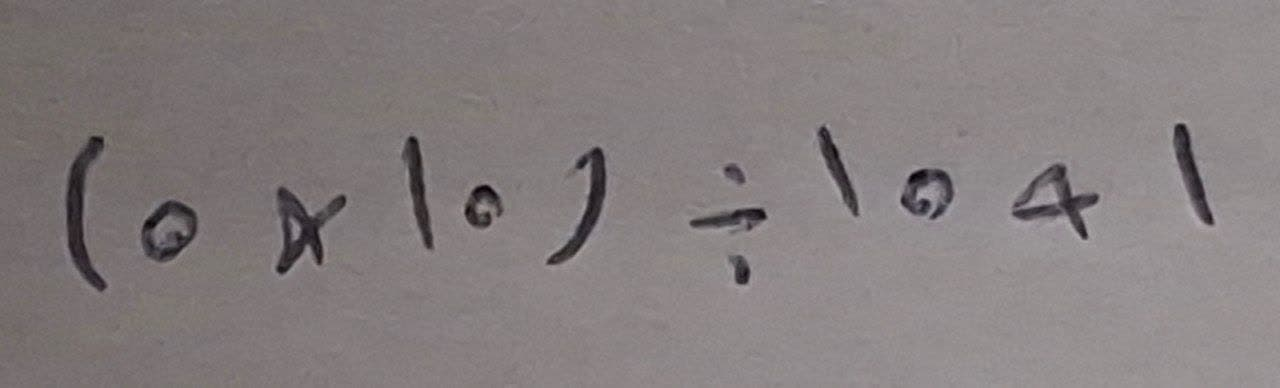character: (688, 160, 771, 288), (1013, 157, 1104, 245), (63, 136, 111, 297), (548, 145, 608, 264), (273, 188, 348, 280), (815, 121, 861, 218), (1172, 121, 1214, 227), (399, 136, 433, 254), (139, 200, 195, 264), (900, 164, 952, 218), (460, 180, 507, 228)
